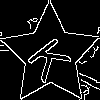K: (25, 30, 80, 84)
